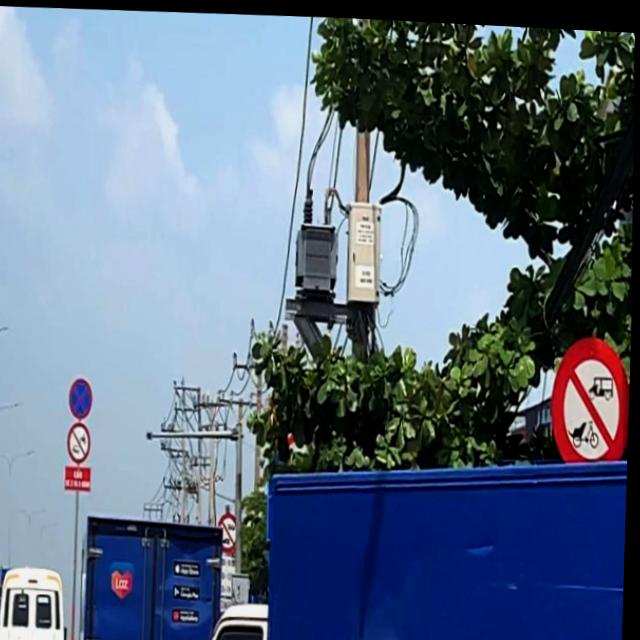Cam dung xe va do xe: (69, 376, 95, 419)
